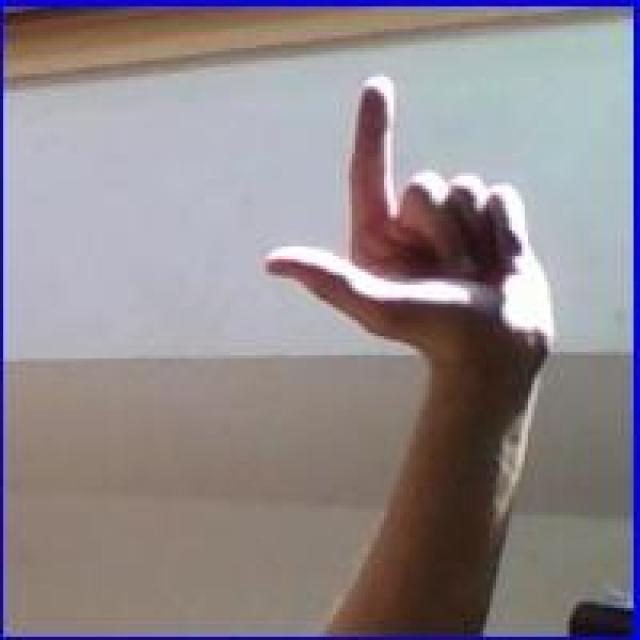L: (254, 65, 565, 372)
